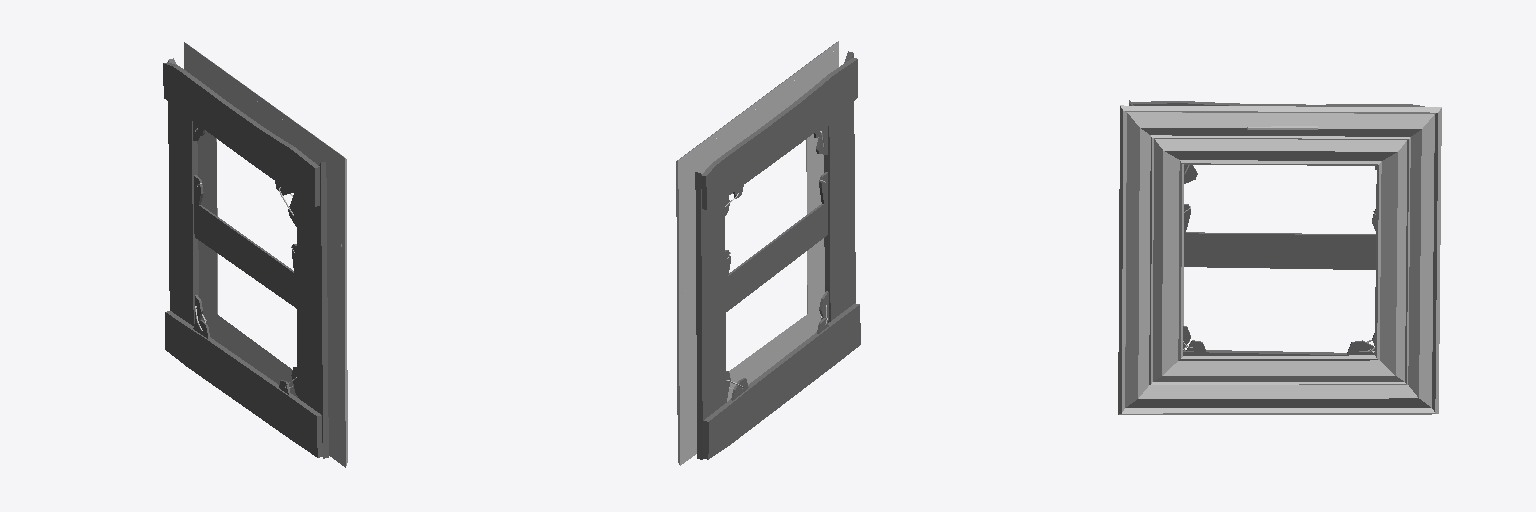
Rendered from Frame.obj.
3 renders of one model, left to right at view 1: azimuth 30°, elevation 25°; view 2: azimuth 150°, elevation 25°; view 3: azimuth 270°, elevation 25°, orthographic.
Parts seen in each view (by area): view 1: Painting_frame, initialShadingGroup Outside_frame; view 2: Painting_frame, initialShadingGroup Outside_frame; view 3: initialShadingGroup Outside_frame, Painting_frame, initialShadingGroup Painting_frame.
Part boxes in pixels (x1,y1,x2,y2): Painting_frame: (163,58,328,458); initialShadingGroup Outside_frame: (184,42,347,467); Painting_frame: (695,51,860,459); initialShadingGroup Outside_frame: (676,41,838,465); initialShadingGroup Outside_frame: (1118,105,1441,414); Painting_frame: (1129,100,1424,355); initialShadingGroup Painting_frame: (1183,165,1376,354).
Bounding box in the file's own units: 0.0832 × 0.7717 × 0.7315.